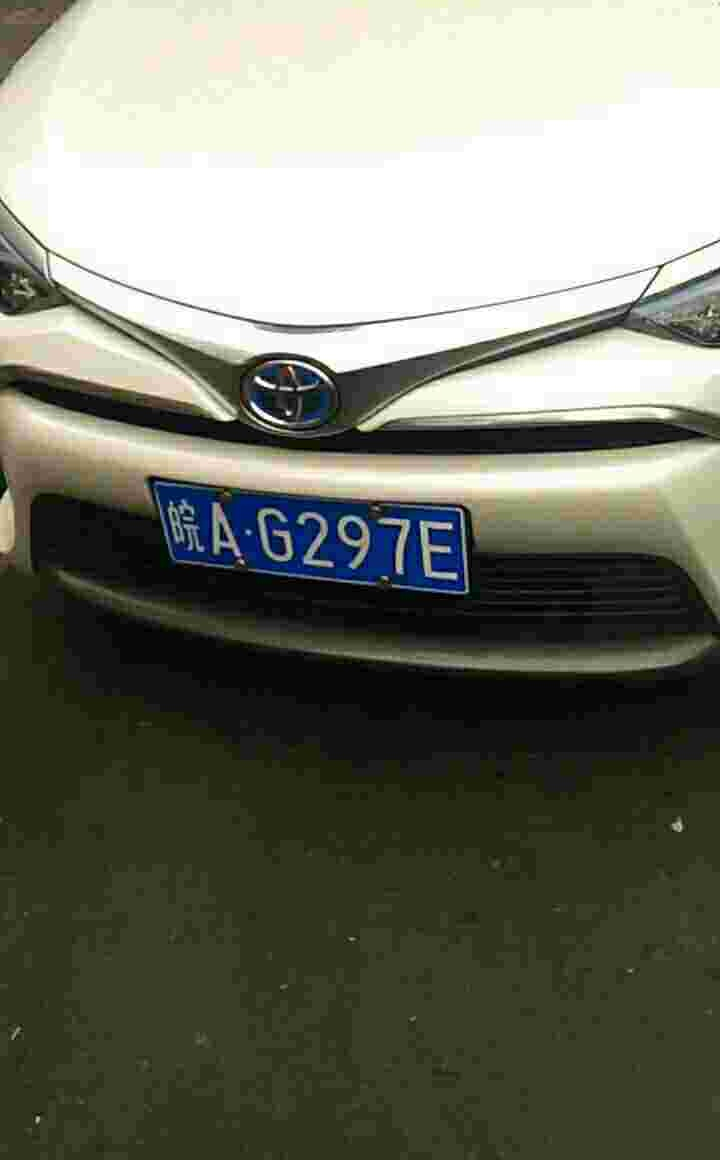license_plate: (155, 481, 475, 600)
